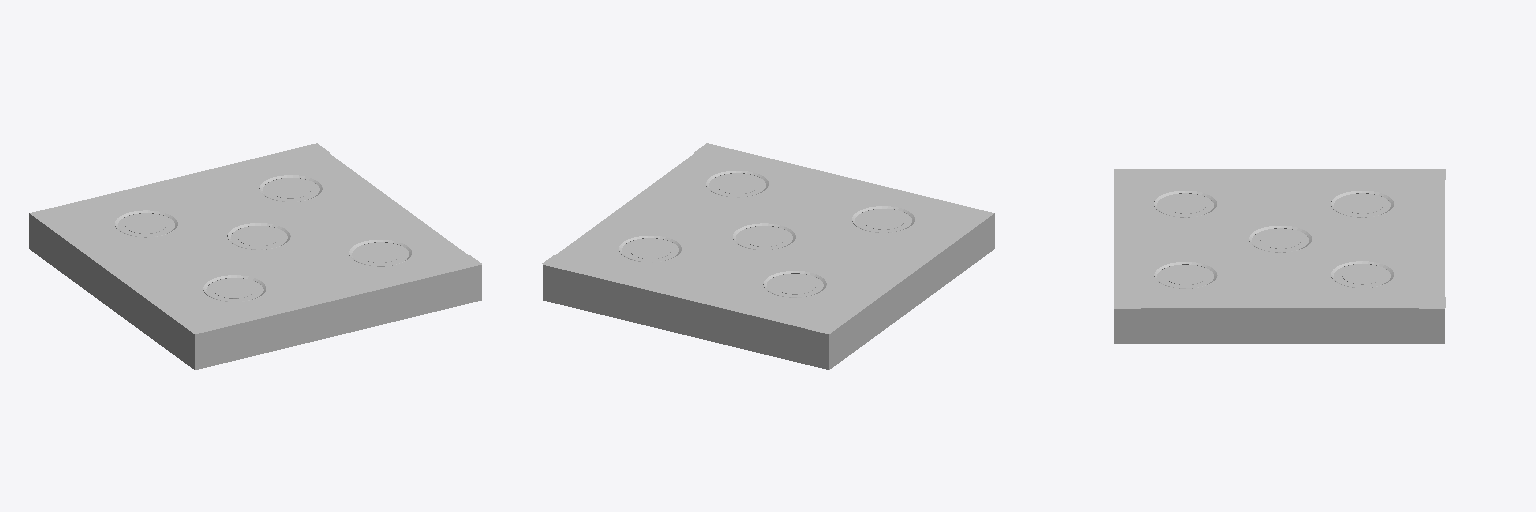
Rendered from blueplr.obj.
3 views of the same model, side by side, from view 1: azimuth 30°, elevation 25°; view 2: azimuth 150°, elevation 25°; view 3: azimuth 270°, elevation 25° (orthographic).
Parts seen in each view (by area): view 1: Cube, Plane, Plane.001, Plane.003, Plane.002, Circle.006_Circle.010, Circle, Circle.008_Circle.012, Circle.005_Circle.009, Circle.007_Circle.011; view 2: Cube, Plane, Plane.003, Plane.001, Plane.002, Circle, Circle.006_Circle.010, Circle.007_Circle.011, Circle.008_Circle.012, Circle.005_Circle.009; view 3: Cube, Plane.002, Plane.001, Plane.003, Plane, Circle, Circle.006_Circle.010, Circle.007_Circle.011, Circle.008_Circle.012, Circle.005_Circle.009.
Part boxes in pixels (x1,y1,x2,y2): Cube: (29, 153, 481, 369); Plane: (31, 143, 329, 222); Plane.001: (294, 144, 480, 269); Plane.003: (191, 255, 481, 333); Plane.002: (30, 208, 214, 333); Circle.006_Circle.010: (203, 275, 265, 301); Circle: (115, 210, 177, 237); Circle.008_Circle.012: (227, 223, 290, 249); Circle.005_Circle.009: (259, 175, 322, 201); Circle.007_Circle.011: (349, 240, 411, 266); Cube: (543, 153, 994, 369); Plane: (542, 255, 840, 333); Plane.003: (694, 143, 991, 221); Plane.001: (546, 144, 728, 269); Plane.002: (808, 208, 993, 333); Circle: (763, 271, 826, 297); Circle.006_Circle.010: (852, 206, 914, 232); Circle.007_Circle.011: (706, 171, 768, 197); Circle.008_Circle.012: (733, 223, 795, 249); Circle.005_Circle.009: (619, 236, 681, 262); Cube: (1114, 180, 1444, 343); Plane.002: (1115, 169, 1445, 179); Plane.001: (1115, 297, 1445, 307); Plane.003: (1114, 169, 1140, 308); Plane: (1419, 169, 1444, 308); Circle: (1331, 191, 1393, 217); Circle.006_Circle.010: (1154, 191, 1216, 217); Circle.007_Circle.011: (1154, 262, 1217, 288); Circle.008_Circle.012: (1249, 226, 1311, 252); Circle.005_Circle.009: (1331, 261, 1393, 287).
Size of the model in its own units: 2.01 by 0.2497 by 2.